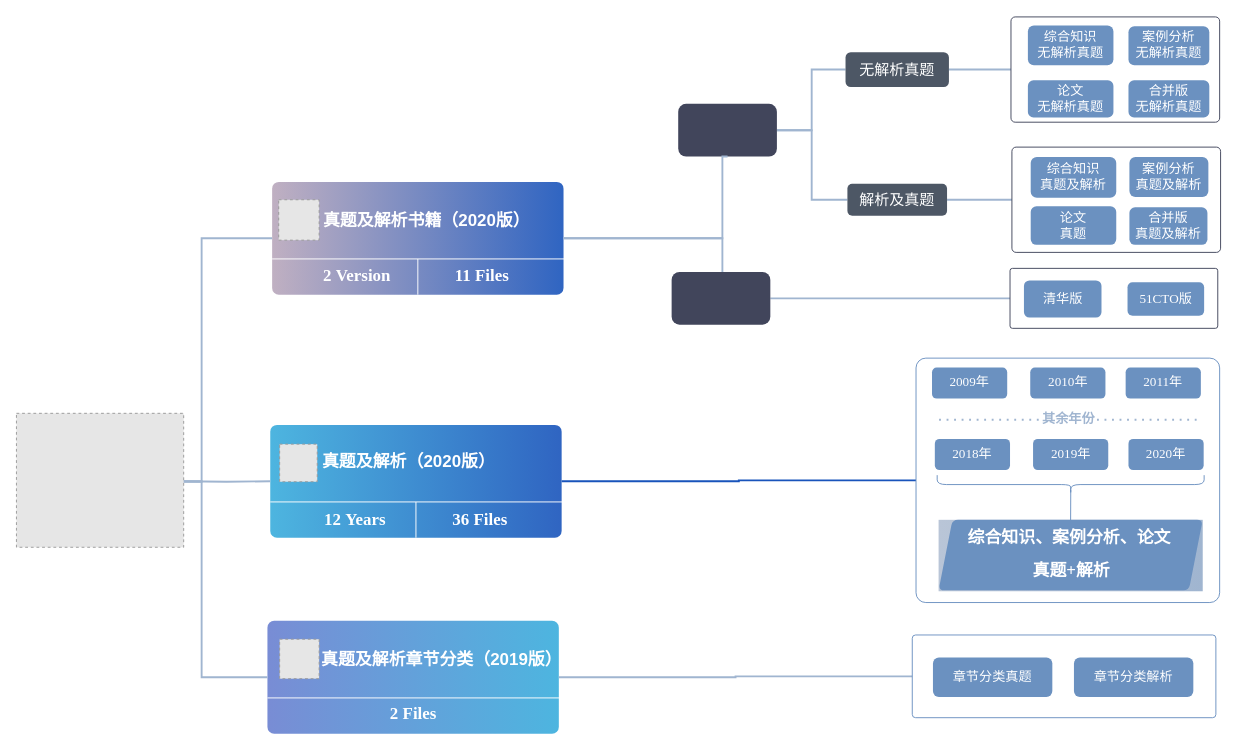
Some shapes in this 1237 by 749 pixel diagram are drawn without their labels. Grey dashed boxes stand in for pictures. Each missing label, with the centre of its shape:
"其他版" goes at [720,298].
"梅花西飞版" goes at [727,129].
